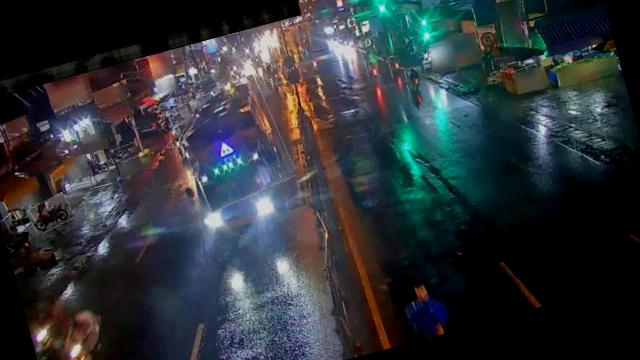Bike: (24, 192, 74, 234), (404, 64, 431, 99), (108, 142, 140, 164), (169, 129, 189, 162), (364, 56, 383, 85), (387, 55, 403, 78), (178, 137, 192, 157)
Truck: (168, 73, 296, 212)
